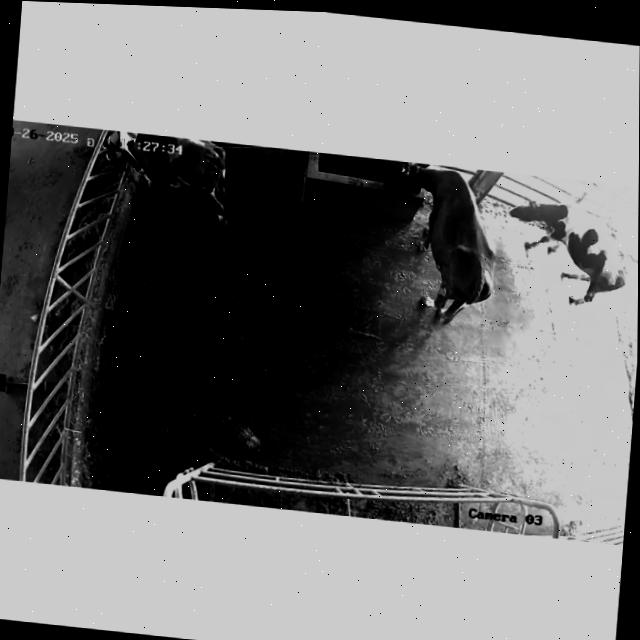stand: (495, 185, 639, 317)
